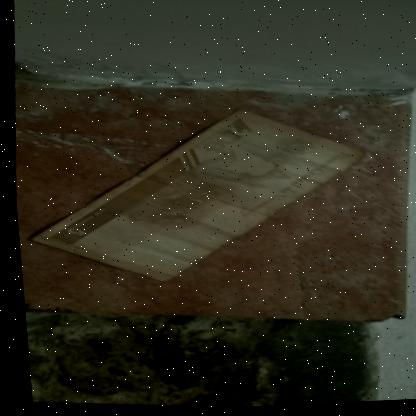five-back-vef: (14, 91, 372, 303)
